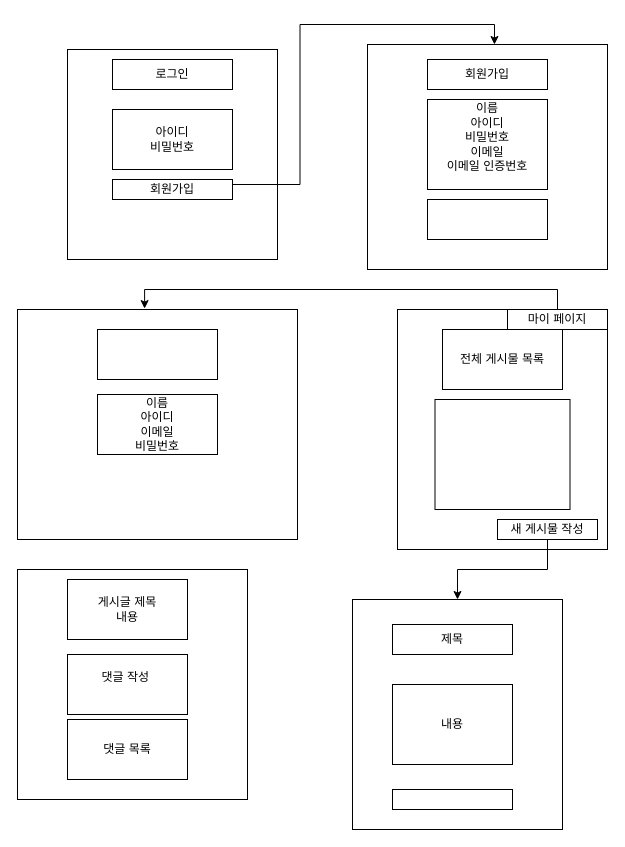
The diagram is 625 pixels wide and 847 high, and some of its shapes have lost their labels. The shapes that lost their labels are listed below. From the top down, each one's centre as x and y in pixels, then its label:
At point 487,219: "Admin 체크".
At point 157,354: "내 정보 수정하기".
At point 502,454: "페이지네이션 번호, 제목, 작성자, 생성일, 댓글 수, 좋아요 수".
At point 452,799: "등록하기".
